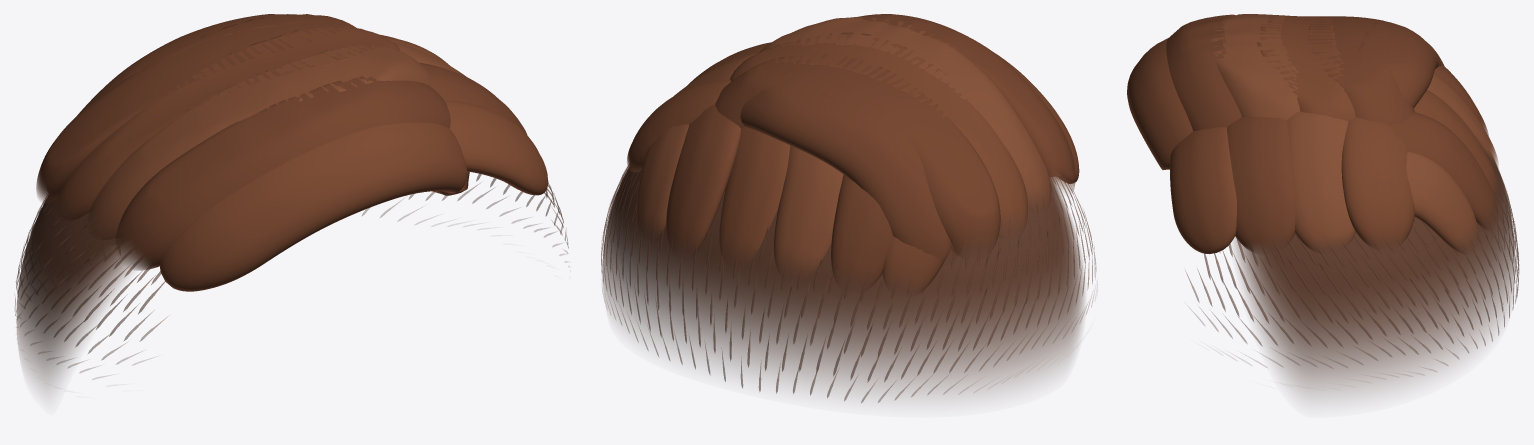
The model's file is Masculine-taper-pashmina259-hair.glb.
The picture shows the model from 3 angles, left to right: view 1: azimuth 30°, elevation 25°; view 2: azimuth 150°, elevation 25°; view 3: azimuth 270°, elevation 25°; orthographic projection. The views are drawn at different scales.
Parts seen in each view (by area): view 1: 226 hair / Hair258 / sculpted side sweep 1, 226 hair / Hair258 / sculpted side sweep 0, 226 hair / Hair258 / smooth side fade, 226 hair / Hair258 / sculpted side sweep 2, 226 hair / Hair259 / directional fade marks214; view 2: 226 hair / Hair258 / smooth side fade, 226 hair / Hair258 / sculpted side sweep 0, 226 hair / Hair258 / sculpted side sweep 1, 226 hair / Hair258 / sculpted side sweep 2, 226 hair / Hair259 / directional fade marks214; view 3: 226 hair / Hair258 / smooth side fade, 226 hair / Hair258 / sculpted side sweep 0, 226 hair / Hair258 / sculpted side sweep 1, 226 hair / Hair258 / sculpted side sweep 2, 226 hair / Hair259 / directional fade marks214.
Part boxes in pixels (x1=…): 226 hair / Hair258 / sculpted side sweep 1: x1=56, y1=26, x2=548, y2=291; 226 hair / Hair258 / sculpted side sweep 0: x1=36, y1=14, x2=527, y2=270; 226 hair / Hair258 / smooth side fade: x1=16, y1=191, x2=547, y2=392; 226 hair / Hair258 / sculpted side sweep 2: x1=87, y1=42, x2=466, y2=240; 226 hair / Hair259 / directional fade marks214: x1=15, y1=174, x2=569, y2=379; 226 hair / Hair258 / smooth side fade: x1=602, y1=166, x2=1084, y2=397; 226 hair / Hair258 / sculpted side sweep 0: x1=666, y1=14, x2=1075, y2=289; 226 hair / Hair258 / sculpted side sweep 1: x1=627, y1=32, x2=1079, y2=294; 226 hair / Hair258 / sculpted side sweep 2: x1=636, y1=16, x2=1050, y2=279; 226 hair / Hair259 / directional fade marks214: x1=601, y1=164, x2=1097, y2=402; 226 hair / Hair258 / smooth side fade: x1=1233, y1=146, x2=1515, y2=398; 226 hair / Hair258 / sculpted side sweep 0: x1=1166, y1=14, x2=1497, y2=253; 226 hair / Hair258 / sculpted side sweep 1: x1=1127, y1=15, x2=1498, y2=254; 226 hair / Hair258 / sculpted side sweep 2: x1=1208, y1=14, x2=1498, y2=253; 226 hair / Hair259 / directional fade marks214: x1=1186, y1=157, x2=1519, y2=374.
Size of the model in its own units: 0.9743 by 0.6156 by 0.7585.
